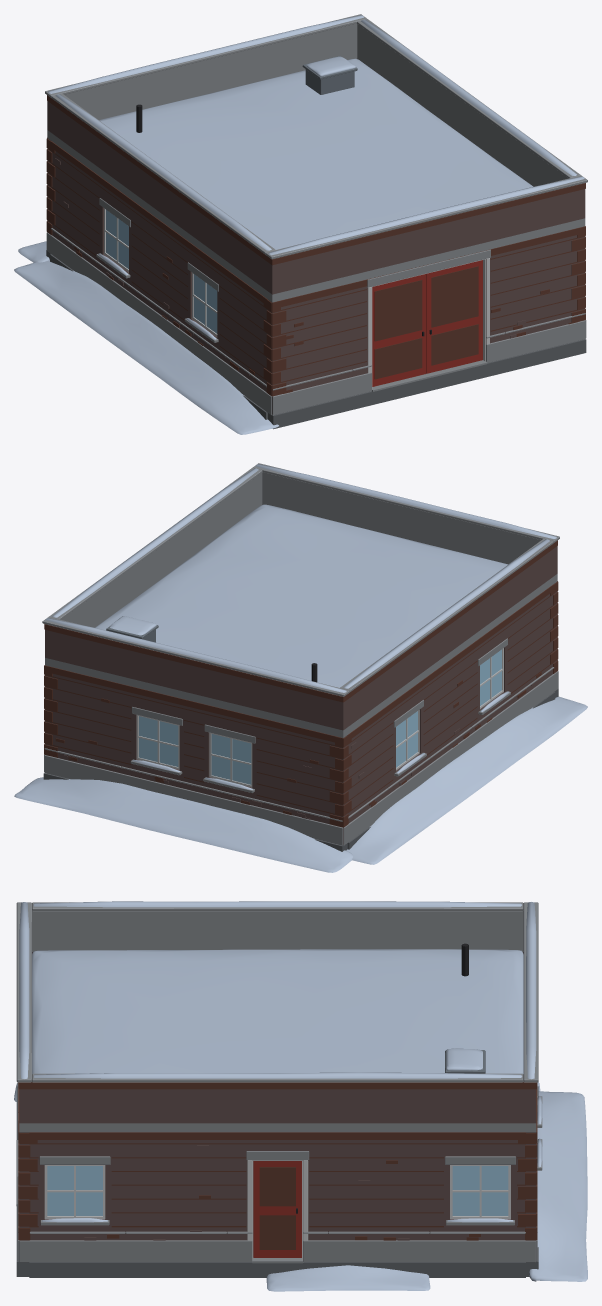
Rendered from garage.glb.
3 views of the same model, one above another, from view 1: azimuth 30°, elevation 25°; view 2: azimuth 150°, elevation 25°; view 3: azimuth 270°, elevation 25° (orthographic). The views are drawn at different scales.
Parts seen in each view (by area): view 1: Roof, Walls0_S, Walls0_W, Floor0, Door_1, Door_0, Walls0_S_Stub, Walls0_W_Stub, Window_4, Window_5, Walls0_N; view 2: Roof, Walls0_N, Floor0, Walls0_W, Window_0, Window_1, Walls0_N_Stub, Walls0_W_Stub, Window_5, Window_4, Walls0_S; view 3: Roof, Walls0_E, Floor0, Door_2, Walls0_E_Stub, Window_3, Window_2, Walls0_N, Walls0_S.
Boxes of the visible parts, bbox=[...] form: Roof: bbox=[45, 14, 587, 302]; Walls0_S: bbox=[263, 226, 586, 415]; Walls0_W: bbox=[51, 141, 267, 410]; Floor0: bbox=[14, 241, 586, 434]; Door_1: bbox=[426, 260, 482, 373]; Door_0: bbox=[372, 274, 426, 386]; Walls0_S_Stub: bbox=[266, 313, 585, 414]; Walls0_W_Stub: bbox=[51, 228, 266, 391]; Window_4: bbox=[194, 274, 217, 333]; Window_5: bbox=[106, 210, 128, 268]; Walls0_N: bbox=[46, 138, 55, 253]; Roof: bbox=[42, 463, 559, 737]; Walls0_N: bbox=[44, 665, 351, 845]; Floor0: bbox=[14, 689, 587, 872]; Walls0_W: bbox=[347, 584, 553, 841]; Window_0: bbox=[211, 734, 251, 784]; Window_1: bbox=[139, 716, 178, 766]; Walls0_N_Stub: bbox=[44, 748, 348, 826]; Walls0_W_Stub: bbox=[348, 667, 554, 822]; Window_5: bbox=[396, 711, 417, 767]; Window_4: bbox=[480, 649, 501, 705]; Walls0_S: bbox=[550, 581, 558, 690]; Roof: bbox=[16, 901, 538, 1132]; Walls0_E: bbox=[29, 1132, 525, 1263]; Floor0: bbox=[14, 1082, 587, 1291]; Door_2: bbox=[253, 1161, 301, 1257]; Walls0_E_Stub: bbox=[29, 1231, 525, 1261]; Window_3: bbox=[452, 1166, 508, 1215]; Window_2: bbox=[47, 1166, 102, 1215]; Walls0_N: bbox=[518, 1082, 542, 1262]; Walls0_S: bbox=[16, 1082, 37, 1262].
Size of what is drawn, in the model's own units: 9.87 by 4.4 by 11.32.
